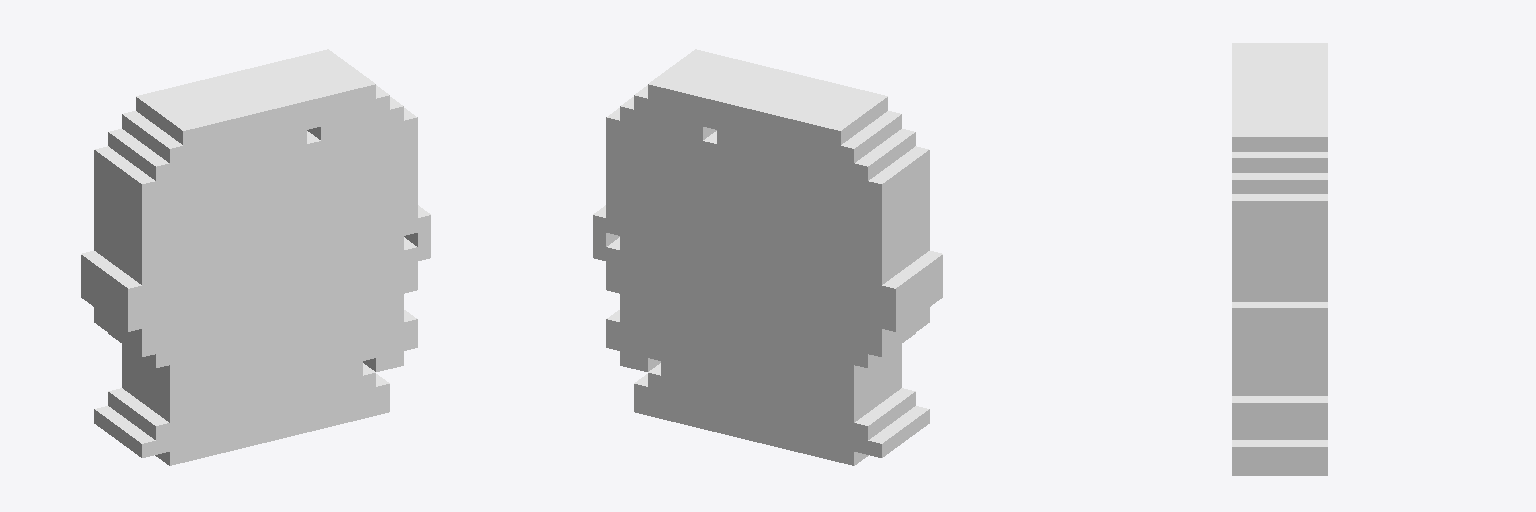
File: Icon_016_02.obj
The picture shows the model from 3 angles: view 1: azimuth 30°, elevation 25°; view 2: azimuth 150°, elevation 25°; view 3: azimuth 270°, elevation 25°; orthographic projection.
Visible parts, largest first — view 1: Icon-016-02; view 2: Icon-016-02; view 3: Icon-016-02.
Boxes of the visible parts, x1=… form: Icon-016-02: x1=81, y1=49, x2=430, y2=465; Icon-016-02: x1=593, y1=49, x2=942, y2=465; Icon-016-02: x1=1232, y1=43, x2=1327, y2=475.
Size of the model in its own units: 2.2 by 2.3 by 0.6.